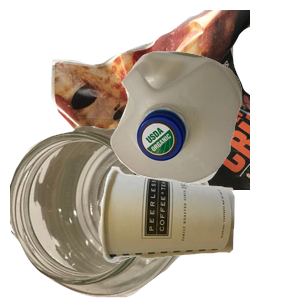glass: (10, 126, 216, 300)
paper: (49, 10, 289, 190)
plastic: (108, 49, 300, 226)
trash: (95, 164, 300, 300)
